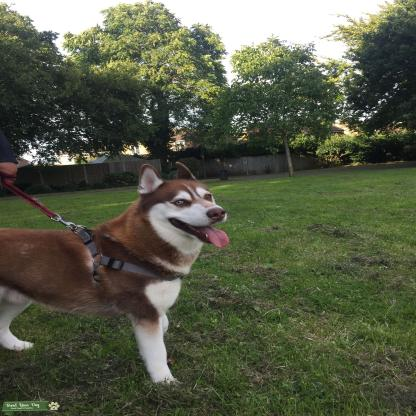husky: (2, 160, 234, 384)
